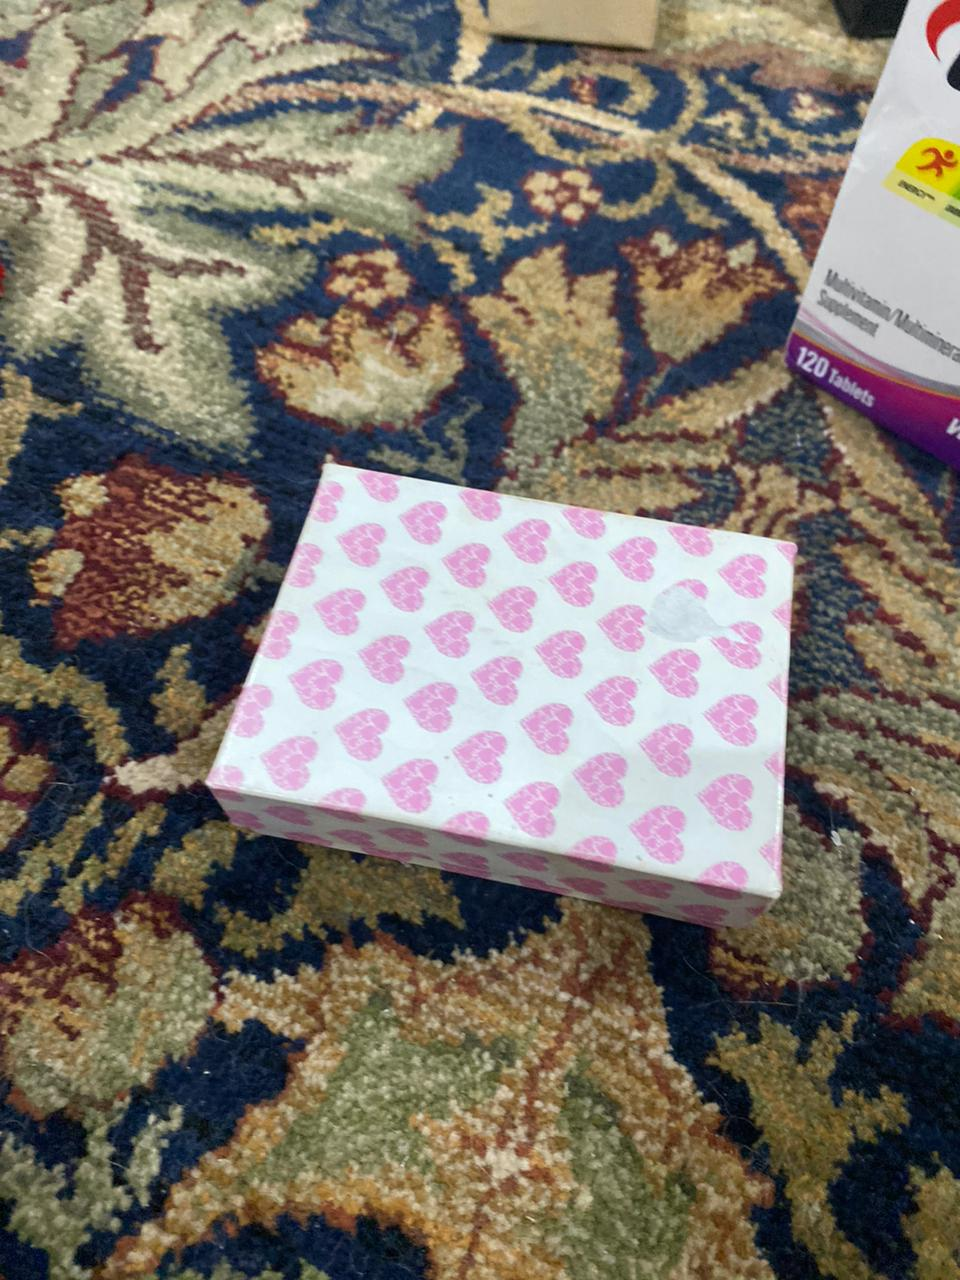Centrum: (778, 9, 960, 456)
Pink Box: (214, 456, 798, 938)
